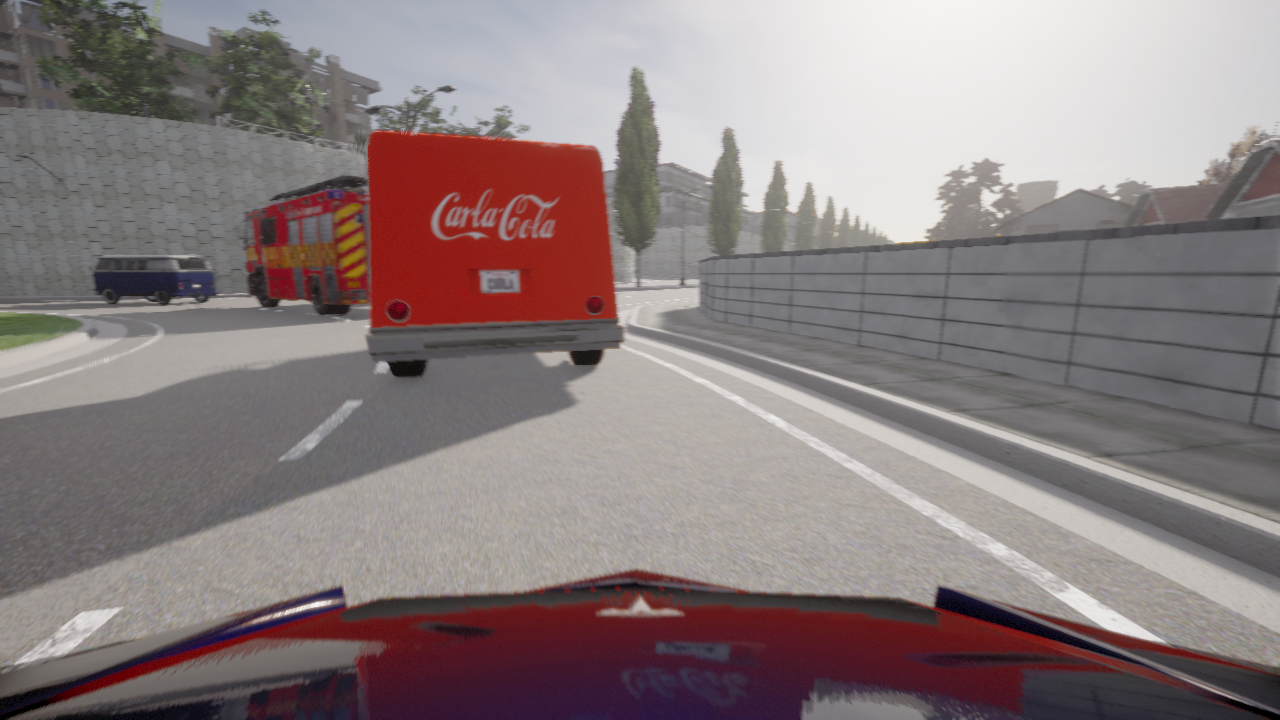cyclist: (0, 569, 1279, 719), (366, 131, 624, 377), (233, 175, 369, 315), (89, 255, 217, 304)
